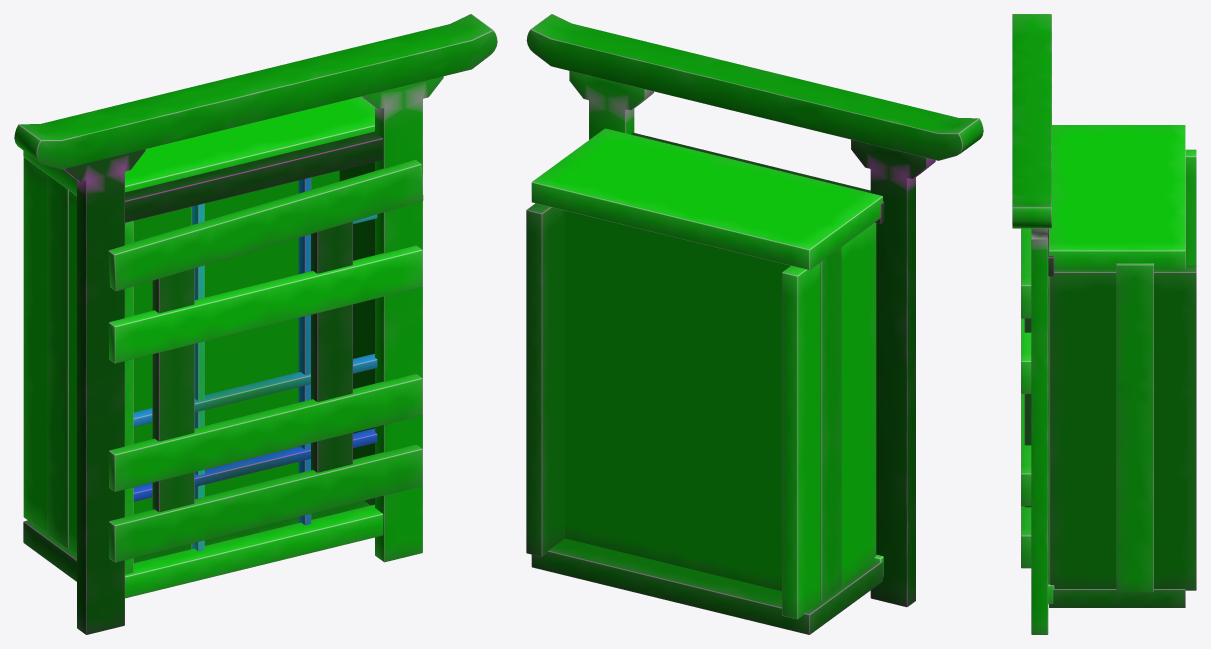
Rendered from window_400x350_04.fbx.
3 renders of one model, left to right at view 1: azimuth 30°, elevation 25°; view 2: azimuth 150°, elevation 25°; view 3: azimuth 270°, elevation 25°, orthographic. The views are drawn at different scales.
Parts seen in each view (by area): view 1: window_400x350_04; view 2: window_400x350_04; view 3: window_400x350_04.
Boxes of the visible parts, x1,y1,x2,y2 form: window_400x350_04: [14, 14, 497, 634]; window_400x350_04: [526, 14, 983, 634]; window_400x350_04: [1012, 14, 1196, 634].
Bounding box in the file's own units: 2.48 × 2.65 × 0.979.
